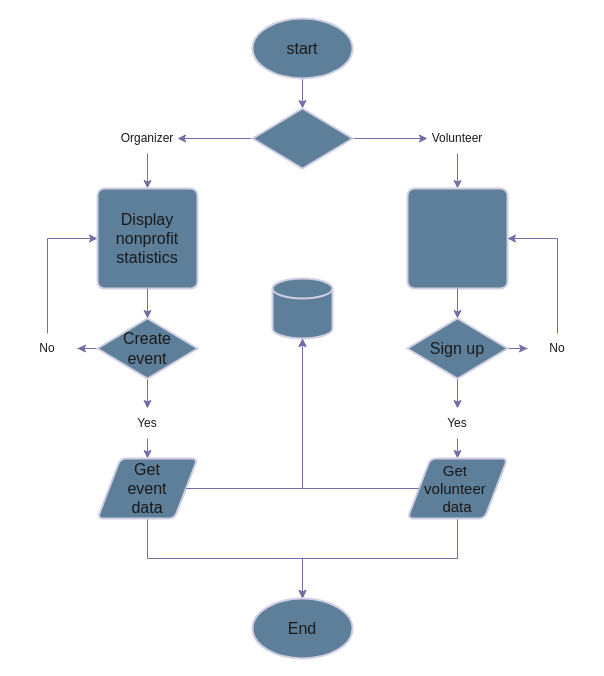
This 604x676 diagram has some shape labels left out. The shapes that lost their labels are listed below. From the top down, each one's box as (x1, y1, x2, y2) in pixels, then its label:
(251, 107, 353, 169): Login
(406, 187, 508, 289): Display upcoming events
(271, 277, 333, 339): Database
